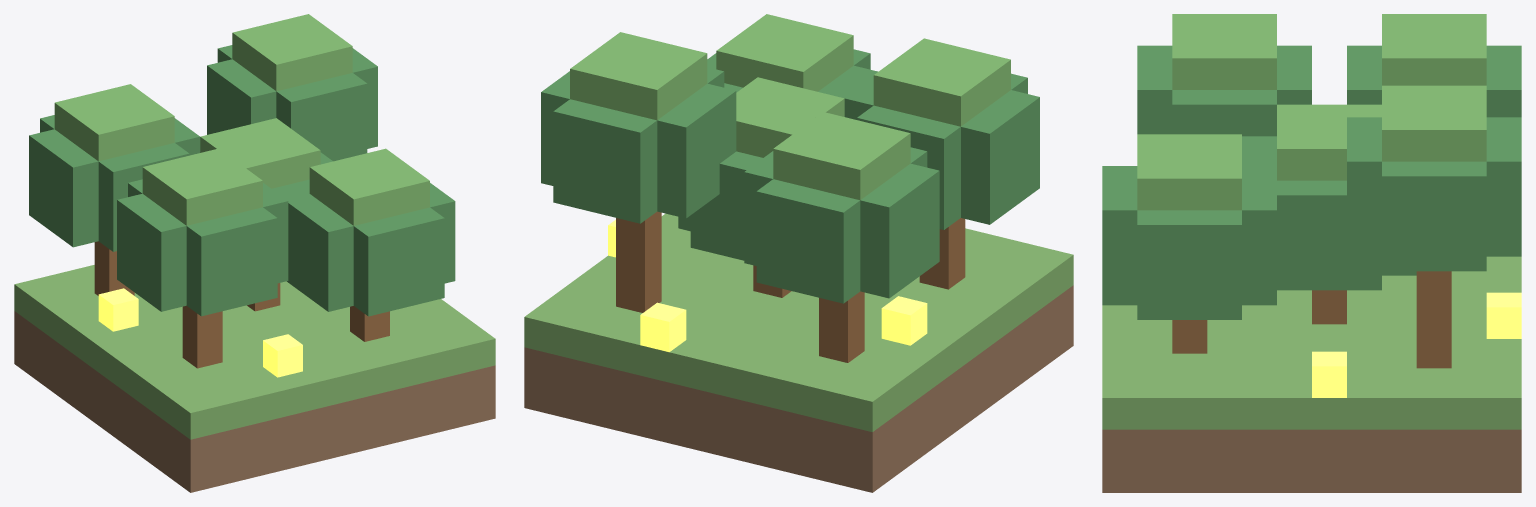
The model's file is forest.glb.
3 views of the same model, side by side, from view 1: azimuth 30°, elevation 25°; view 2: azimuth 150°, elevation 25°; view 3: azimuth 270°, elevation 25° (orthographic). The views are drawn at different scales.
Parts seen in each view (by area): view 1: VX_forest; view 2: VX_forest; view 3: VX_forest.
Boxes of the visible parts, left/top/right/bottom form: VX_forest: left=14, top=14, right=495, bottom=492; VX_forest: left=524, top=14, right=1073, bottom=492; VX_forest: left=1102, top=14, right=1521, bottom=492.
Bounding box in the file's own units: 3.24 × 2.97 × 3.24.
